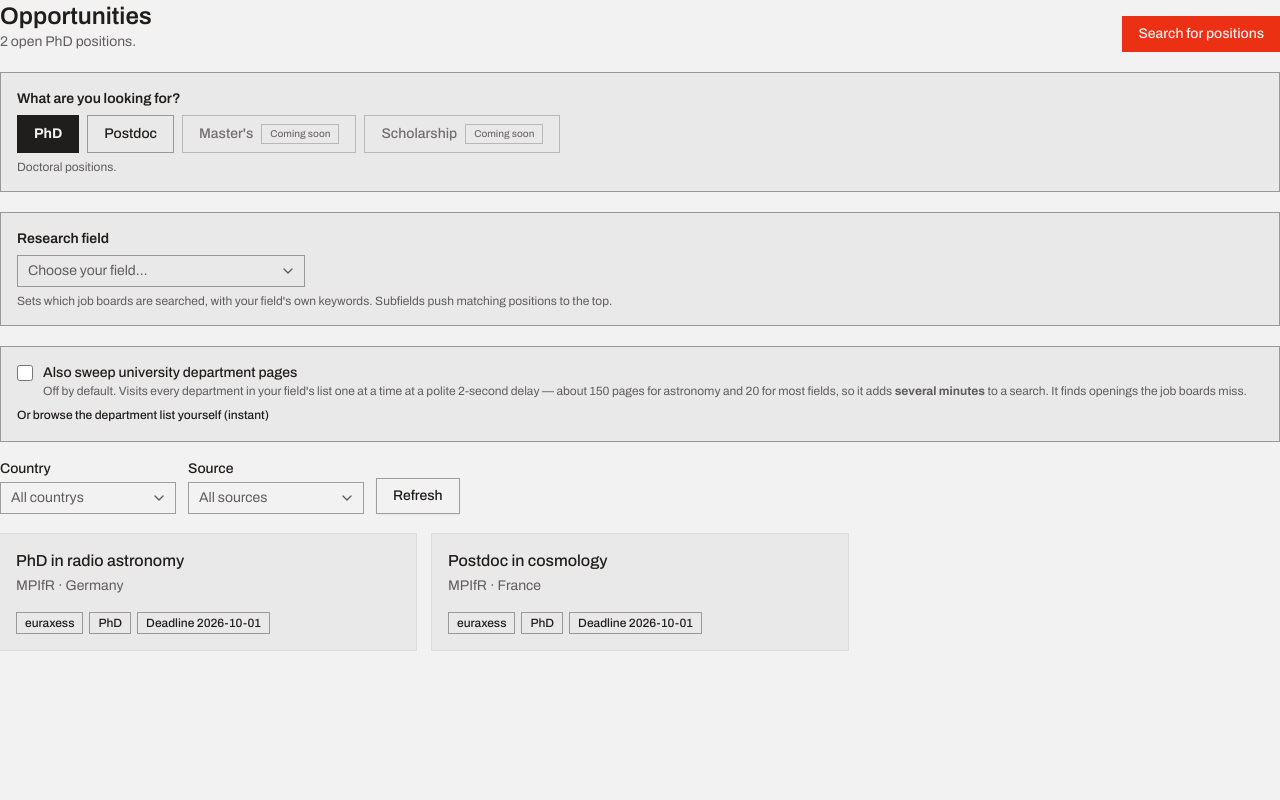
OpportunitiesPage › cancels a running search and keeps the partial results (2A)
The image size is (1280, 800).
Expected: the link "PhD in radio astronomy" is shown, [16,552,184,569]
Click the button "Search for positions". click: click(1201, 34)
box: [1122,16,1279,52]
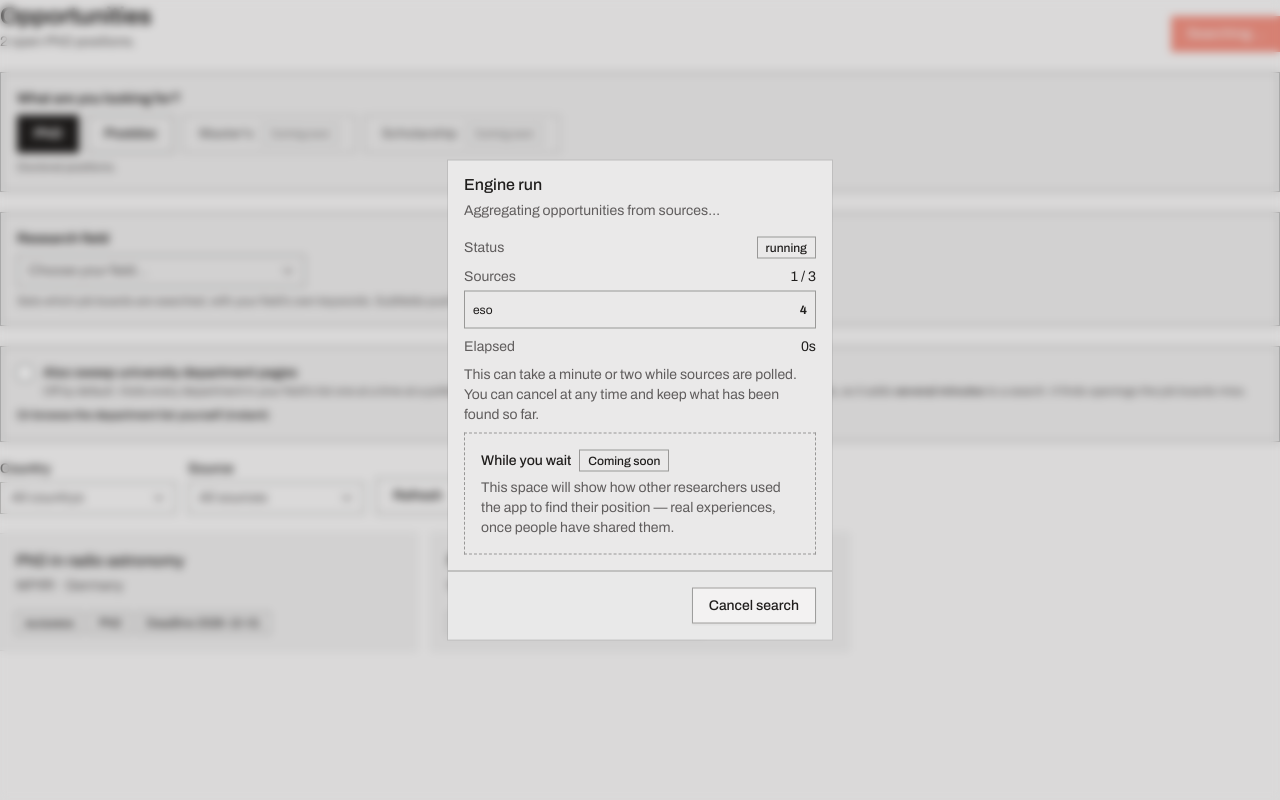
Click the button "Cancel search". click: click(754, 606)
box: [692,588,816,624]
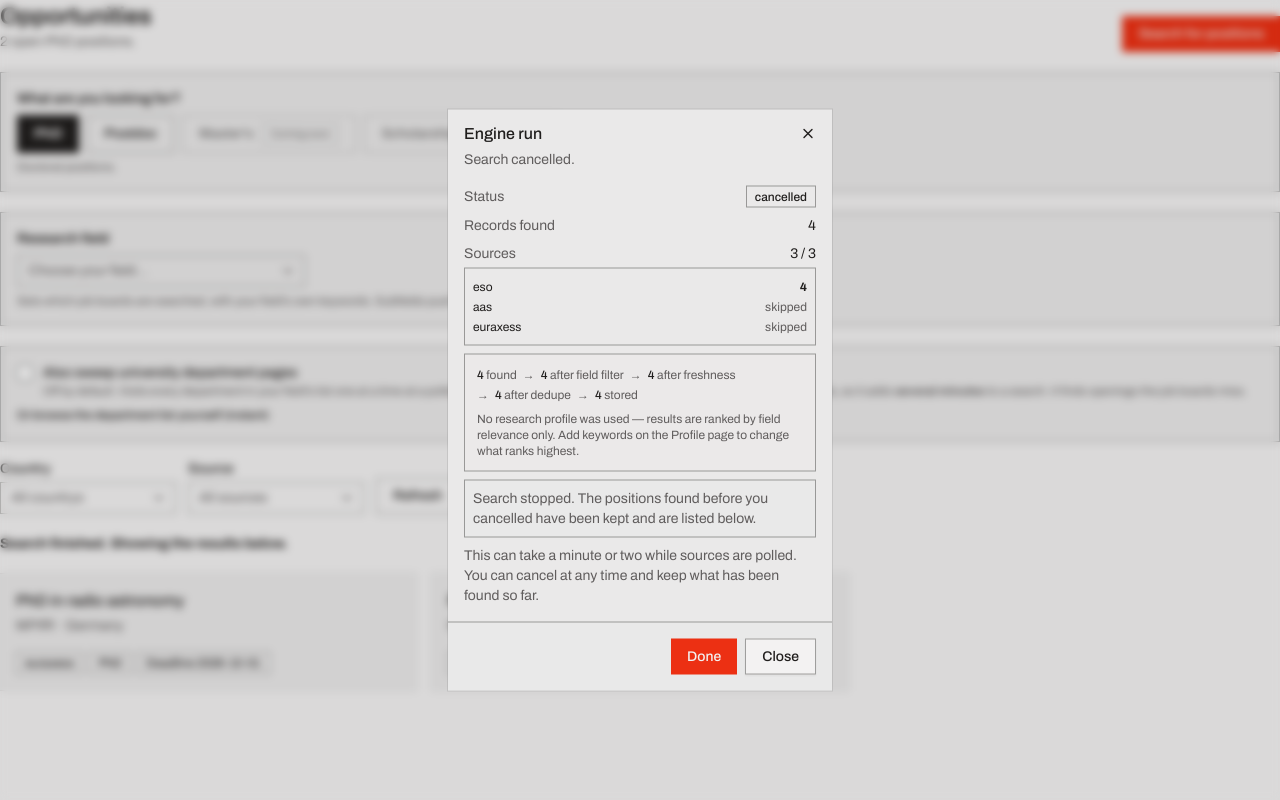
Expected: the text "Search stopped" is shown, [473,490,768,526]
Expected: the text with test id "run-status" reads "cancelled", [755,190,807,204]
Expected: the text "skipped" is shown 2 times, [765,298,807,314]; [765,318,807,334]
Click the button "Done". click: click(704, 656)
box: [671,638,737,674]
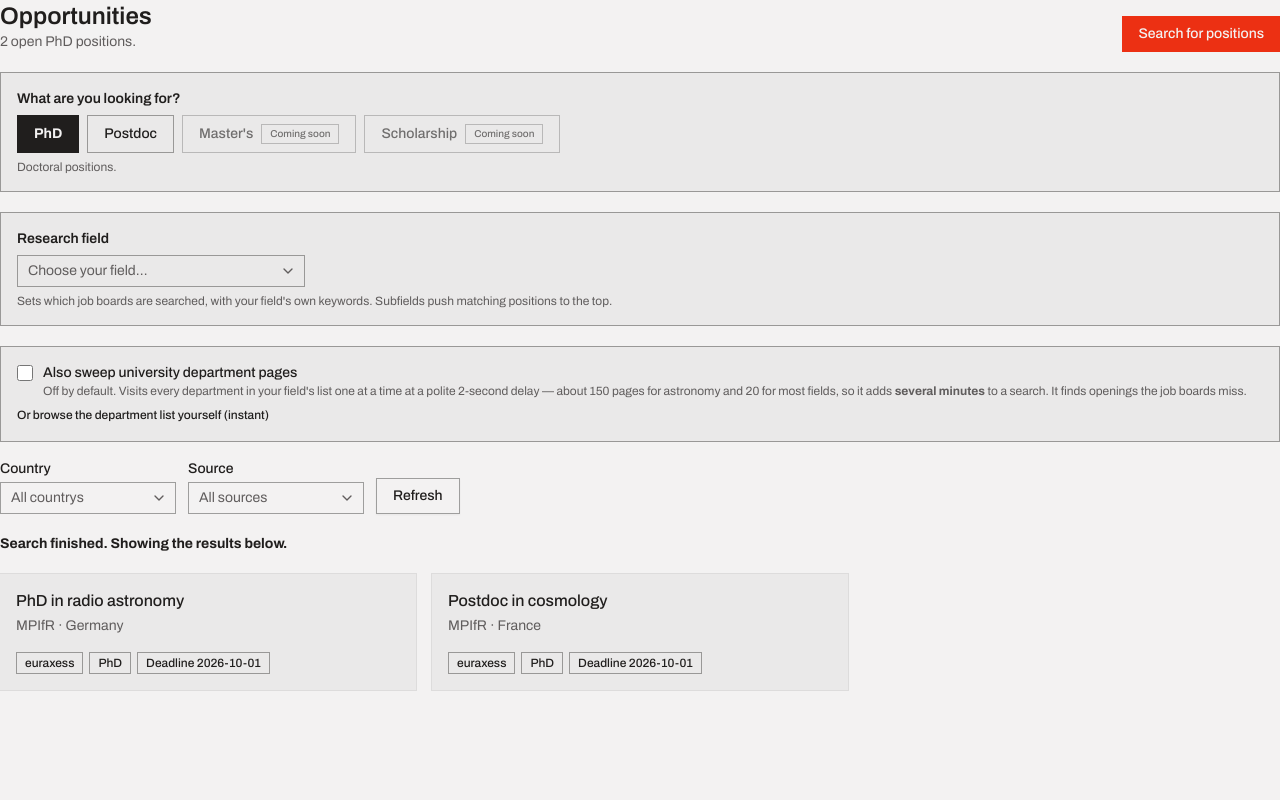
Expected: the link "PhD in radio astronomy" is shown, [16,592,184,609]
Expected: the text "Search stopped" is gone
